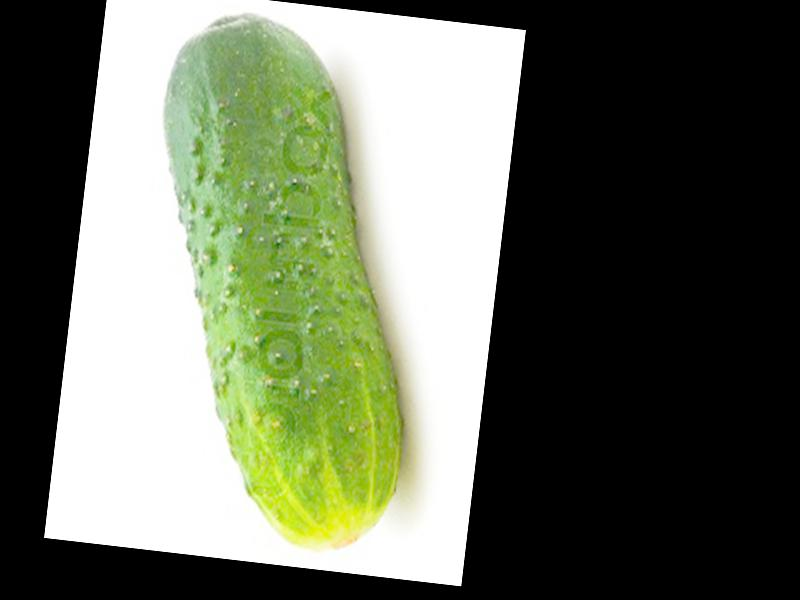Cucumber: (114, 8, 450, 560)
